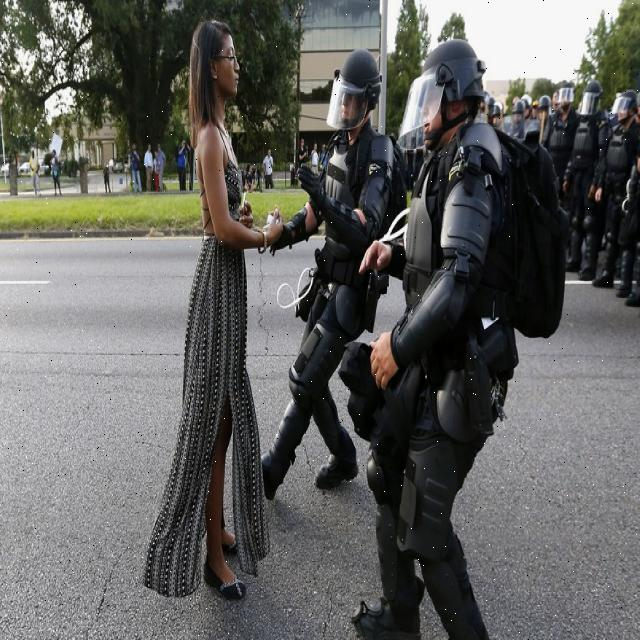police: (381, 11, 574, 640), (268, 32, 413, 496)
